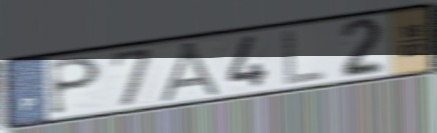2: (338, 16, 387, 82)
4: (225, 32, 271, 91)
7: (109, 46, 154, 109)
A: (156, 39, 227, 104)
L: (281, 27, 327, 88)
P: (49, 55, 103, 117)
